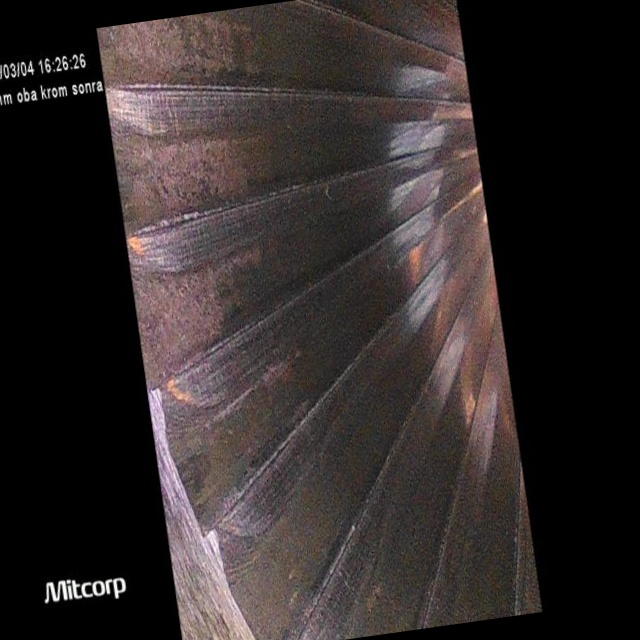hata_8.3: (150, 101, 308, 213), (143, 234, 279, 346), (185, 438, 312, 535), (245, 571, 343, 640), (158, 349, 247, 414)
